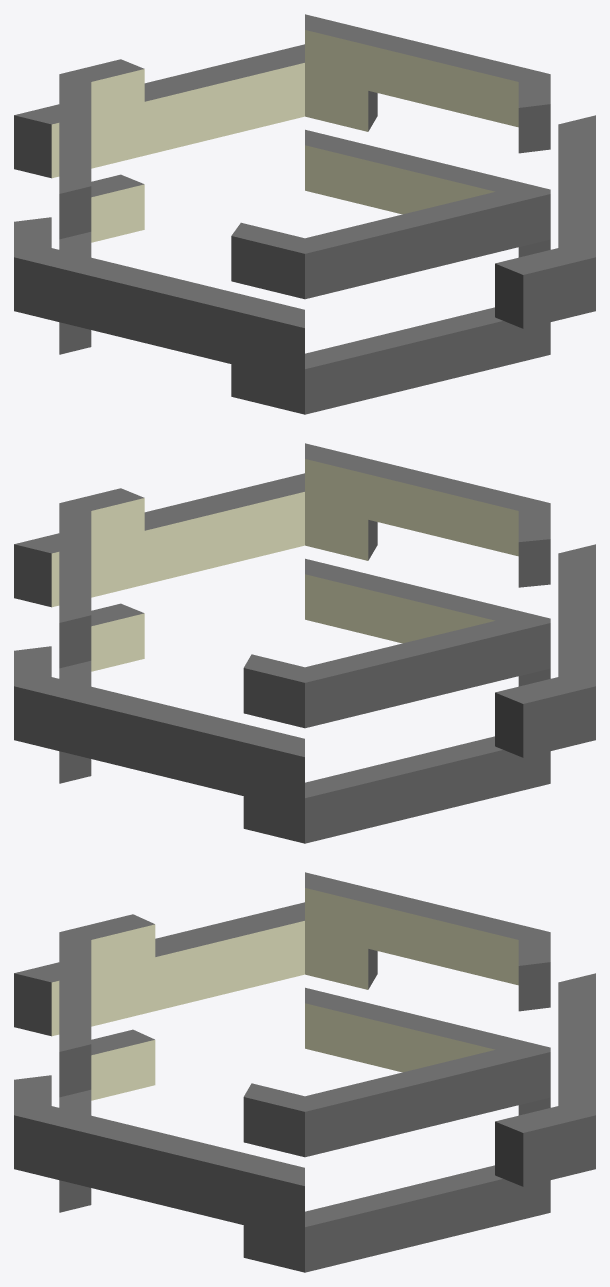
File: BigHexLight2.fbx
3 renders of one model, top to bottom at view 1: azimuth 30°, elevation 25°; view 2: azimuth 150°, elevation 25°; view 3: azimuth 270°, elevation 25°, orthographic.
Visible parts, largest first — view 1: polySurface7; view 2: polySurface7; view 3: polySurface7.
Boxes of the visible parts, <box> form: polySurface7: <box>14,14,595,414</box>; polySurface7: <box>14,443,595,843</box>; polySurface7: <box>14,872,595,1272</box>.
Size of the model in its own units: 21.12 by 5.58 by 18.29.
